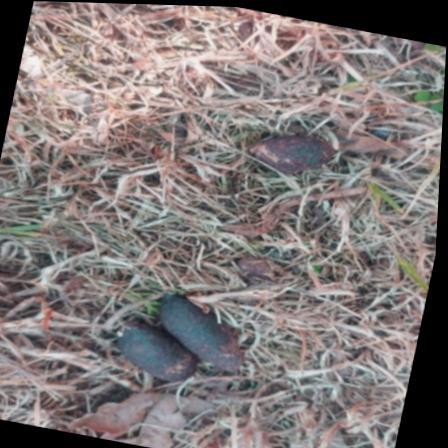dog-poop: (106, 290, 261, 409), (235, 113, 344, 186)
